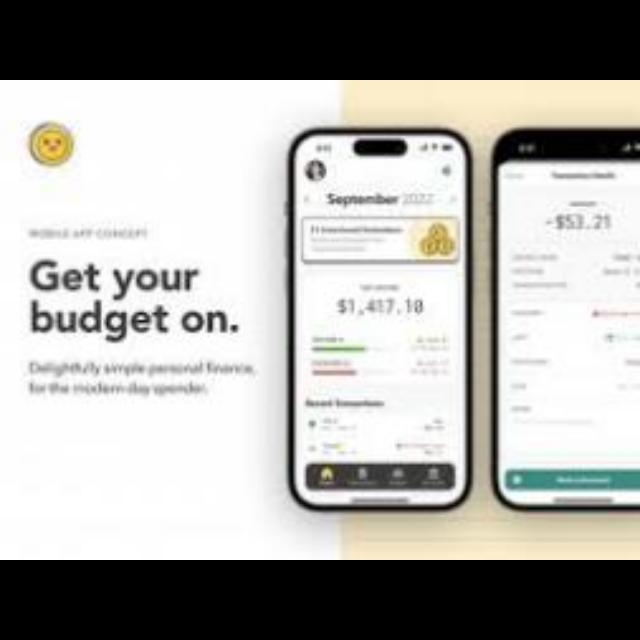phone: (288, 123, 470, 515), (494, 126, 640, 516)
